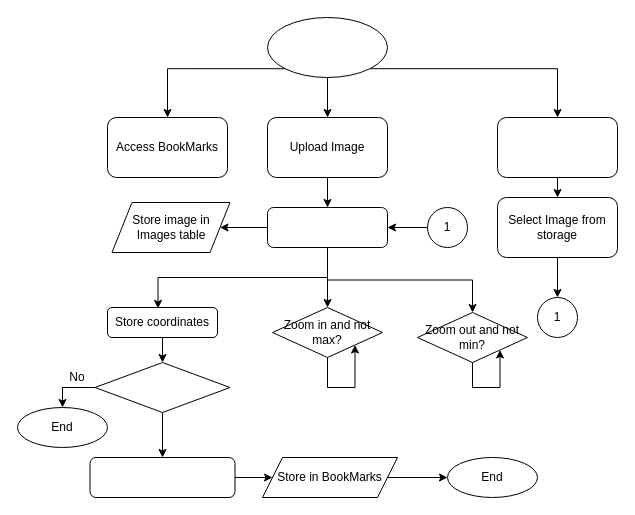
Image size: 635x515. Some labels were removed from this diagram. Here are the shapes that lost their labels. From the top down, the centre of each, then its label:
At [327,47]: "Start".
At [557,147]: "Access Previous Image".
At [327,227]: "Break Down Image".
At [162,387]: "Add description?".
At [162,477]: "Write Commentary/description".
